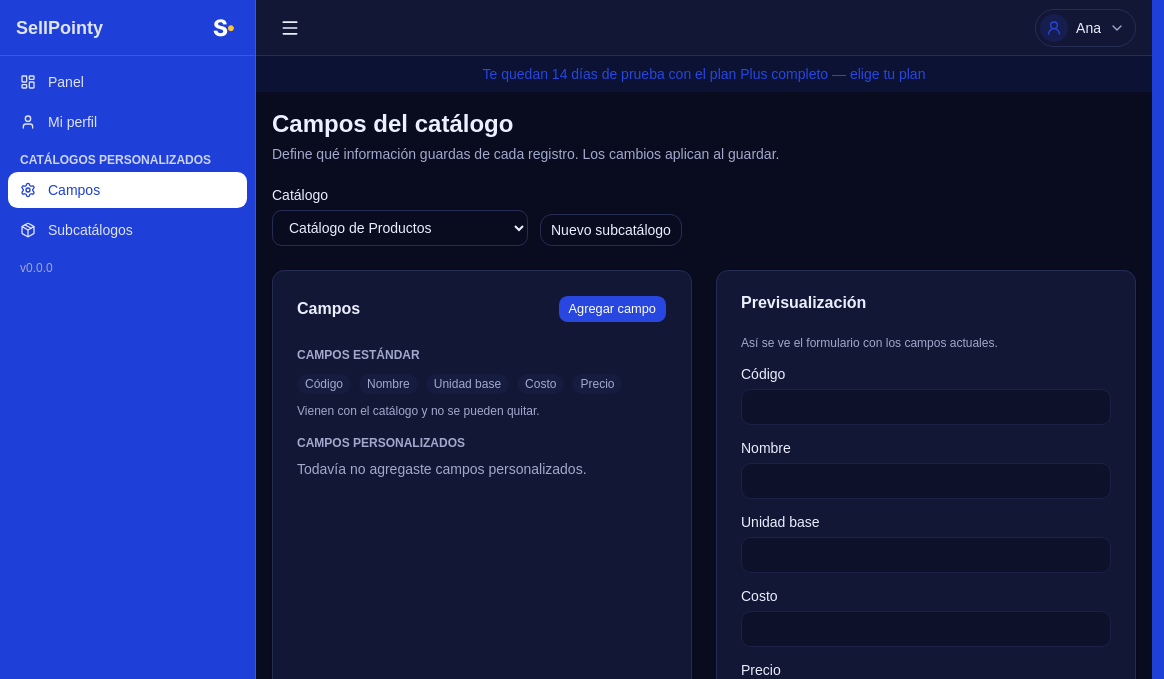
Test: Editor de campos (F2-SCHEMA) › un campo lookup exige catálogo destino antes de poder guardarse
Click the button "Agregar campo" at x=612, y=309, box [558,295,667,323]
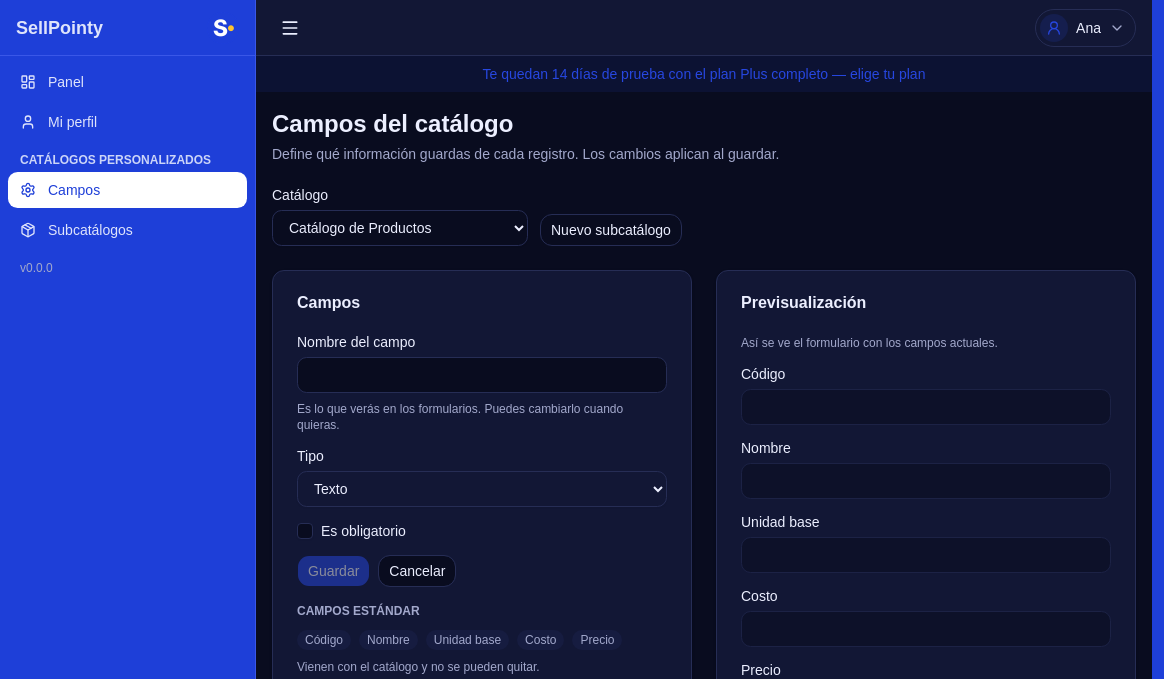
Type "Unidad" into the field labelled "Nombre del campo" at x=482, y=375, box [297,357,667,393]
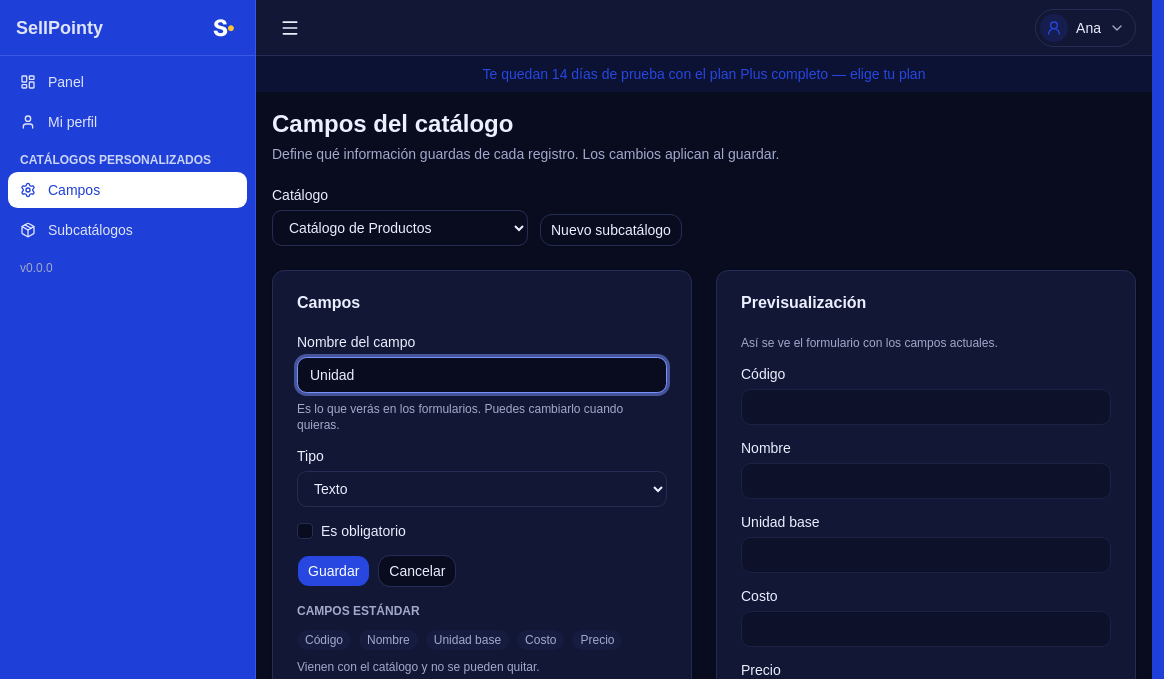
Select "Lista de otro catálogo" in the dropdown labelled "Tipo" at x=482, y=489, box [297,471,667,507]
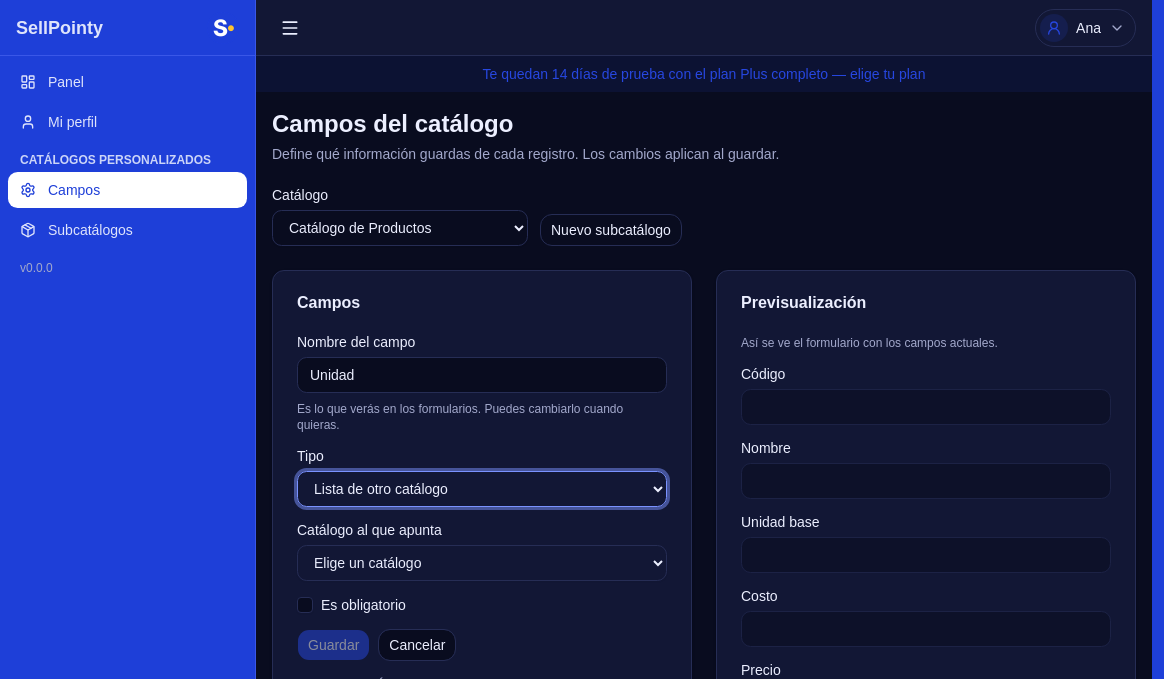
Expected: the button "Guardar" is disabled, [297,629,370,661]
Select "Unidad de Medida" in the dropdown labelled "Catálogo al que apunta" at x=482, y=563, box [297,545,667,581]
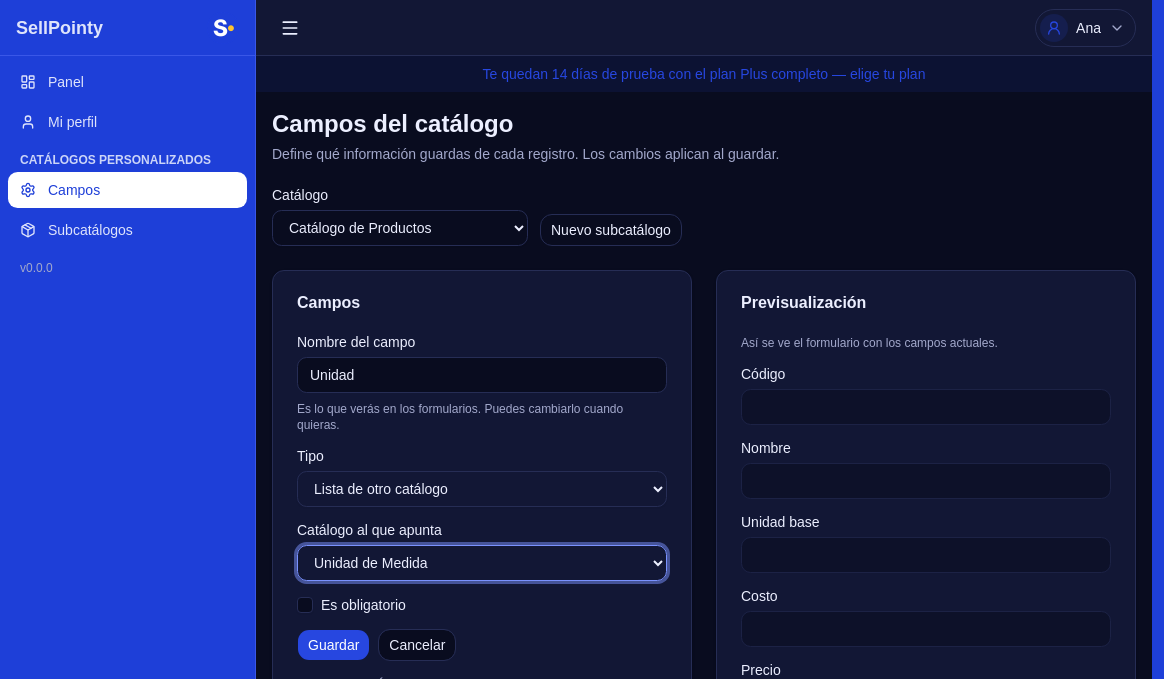
Expected: the button "Guardar" is enabled, [297,629,370,661]
